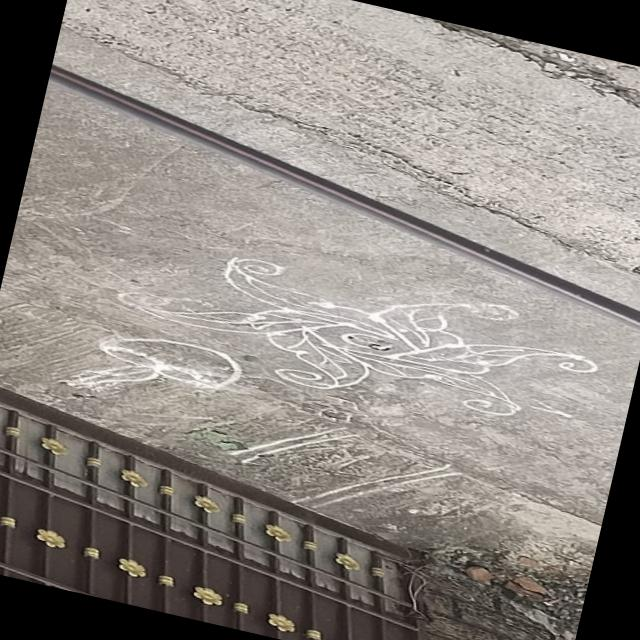rangoli: (0, 165, 636, 510)
